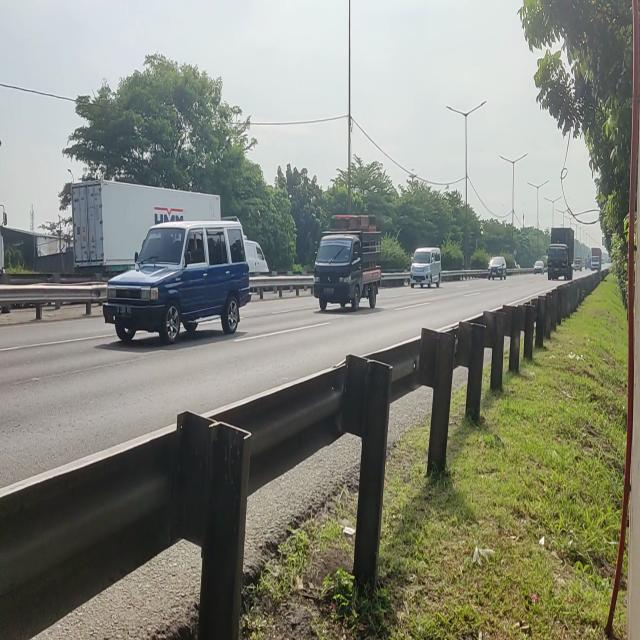Golongan I: (109, 216, 252, 345), (309, 213, 384, 317)
